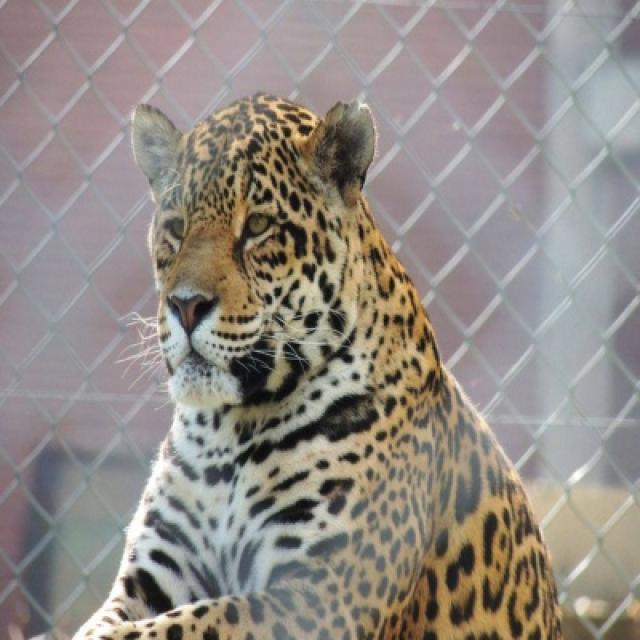Jaguar: (69, 94, 568, 638)
